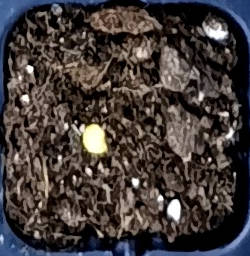pepper seed: (26, 45, 135, 200)
